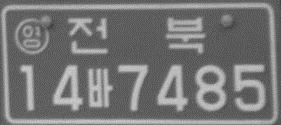1: (14, 63, 45, 111)
4: (156, 63, 188, 111), (52, 64, 83, 110)
5: (232, 62, 266, 111)
7: (117, 63, 148, 112)
8: (193, 64, 227, 112)
바: (86, 67, 113, 109)
영: (13, 17, 49, 56)
전북_D: (66, 16, 205, 57)
